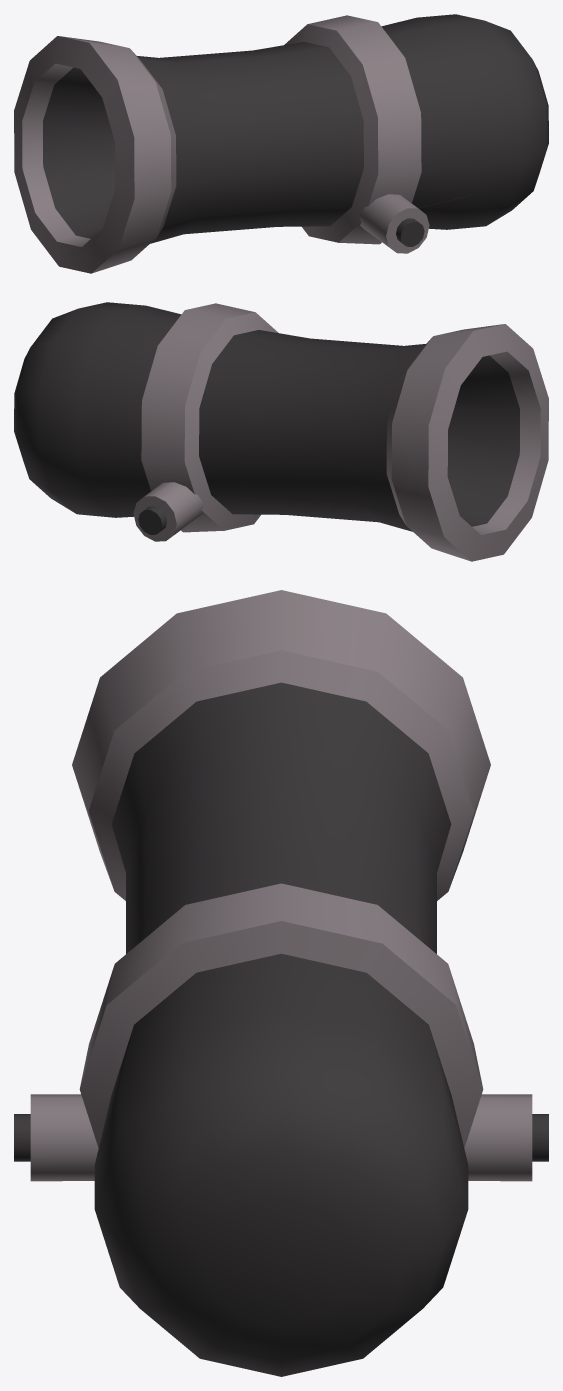
File: cannon-top.glb
The picture shows the model from 3 angles, top to bottom: view 1: azimuth 30°, elevation 25°; view 2: azimuth 150°, elevation 25°; view 3: azimuth 270°, elevation 25°; orthographic projection. The views are drawn at different scales.
Parts seen in each view (by area): view 1: Prop_Cannon.001; view 2: Prop_Cannon.001; view 3: Prop_Cannon.001.
Boxes of the visible parts, <box> form: Prop_Cannon.001: <box>14,14,548,273</box>; Prop_Cannon.001: <box>14,302,548,561</box>; Prop_Cannon.001: <box>14,590,548,1376</box>.
Bounding box in the file's own units: 1.48 × 0.807 × 0.8441.
Materials: 1 (1 with a texture image).
